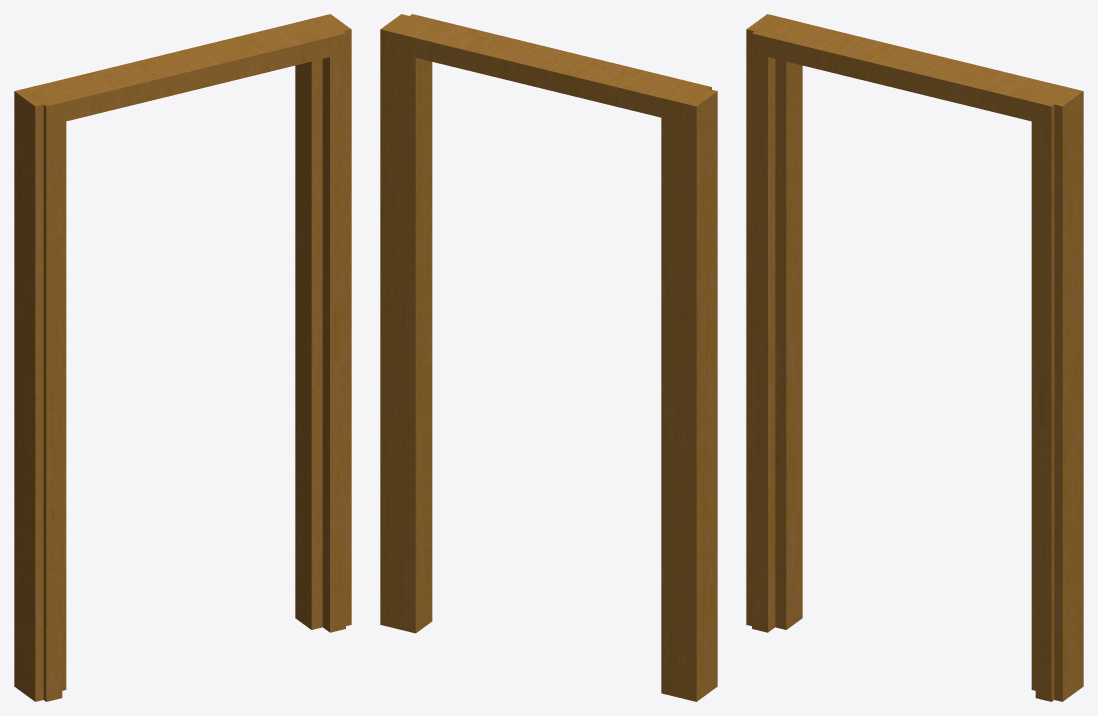
Rendered from type_1.glb.
3 renders of one model, left to right at view 1: azimuth 30°, elevation 25°; view 2: azimuth 150°, elevation 25°; view 3: azimuth 330°, elevation 25°, orthographic.
Visible parts, largest first — view 1: frame1; view 2: frame1; view 3: frame1.
Part boxes in pixels (bbox=[...]): frame1: bbox=[14, 14, 351, 701]; frame1: bbox=[380, 14, 717, 701]; frame1: bbox=[746, 14, 1083, 701].
Bounding box in the file's own units: 2.12 × 3.81 × 0.2757.
1 material, 1 textured.
